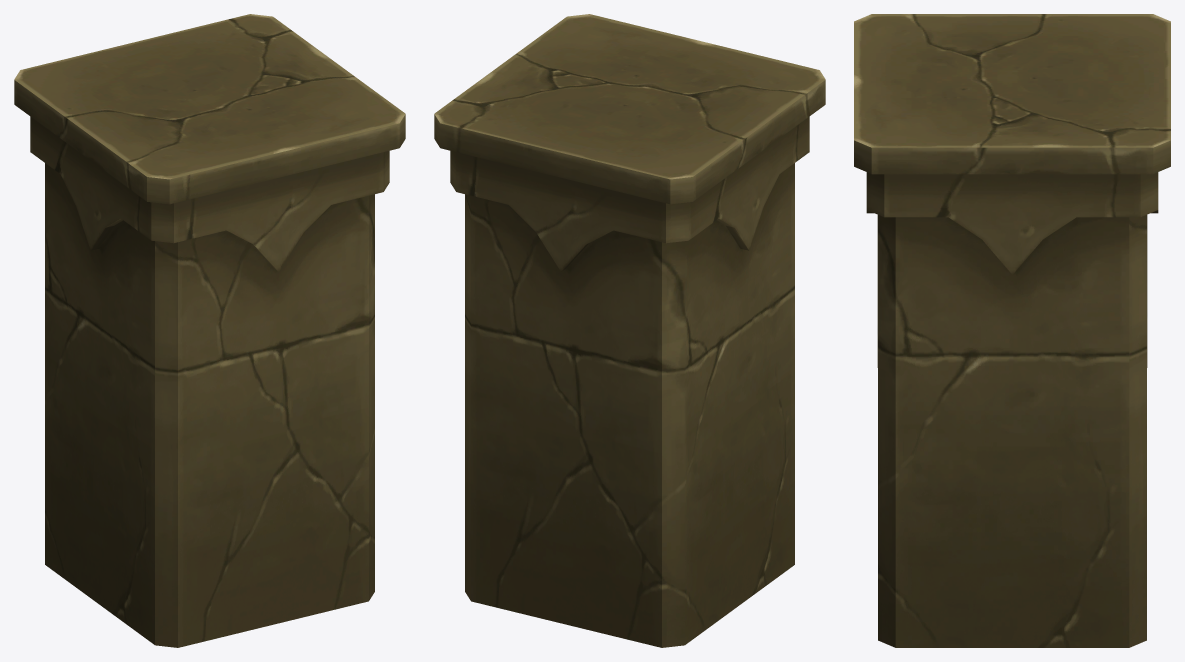
Rendered from temple_base_02.fbx.
3 renders of one model, left to right at view 1: azimuth 30°, elevation 25°; view 2: azimuth 150°, elevation 25°; view 3: azimuth 270°, elevation 25°, orthographic. The views are drawn at different scales.
Parts seen in each view (by area): view 1: obj1.013; view 2: obj1.013; view 3: obj1.013.
Boxes of the visible parts, <box> form: obj1.013: <box>14,14,405,647</box>; obj1.013: <box>434,14,825,647</box>; obj1.013: <box>854,14,1170,647</box>.
Size of the model in its own units: 4.5 by 8 by 4.5.
